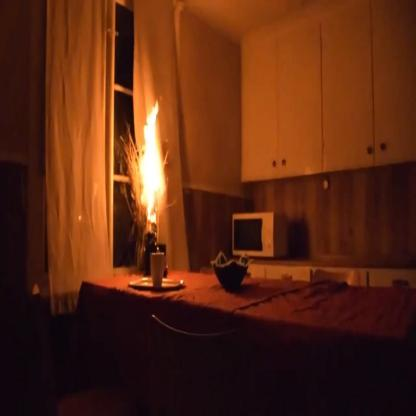fire: (136, 89, 172, 224)
